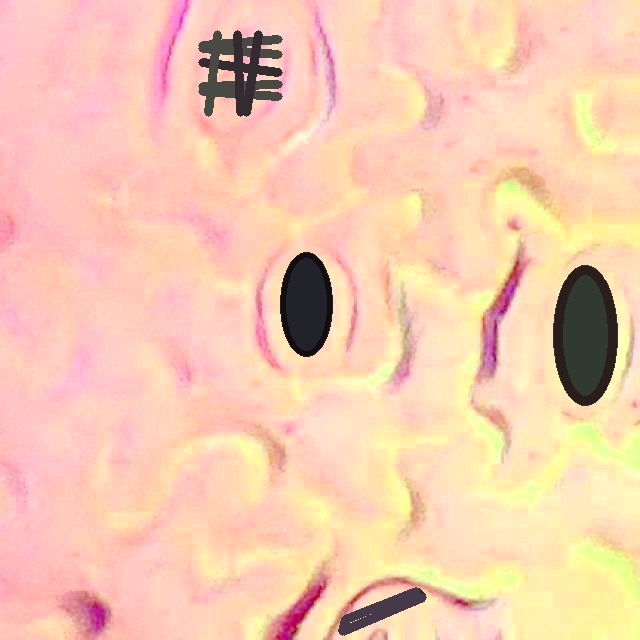open: (553, 265, 616, 405), (198, 30, 281, 115), (280, 252, 333, 355), (341, 587, 426, 635)
